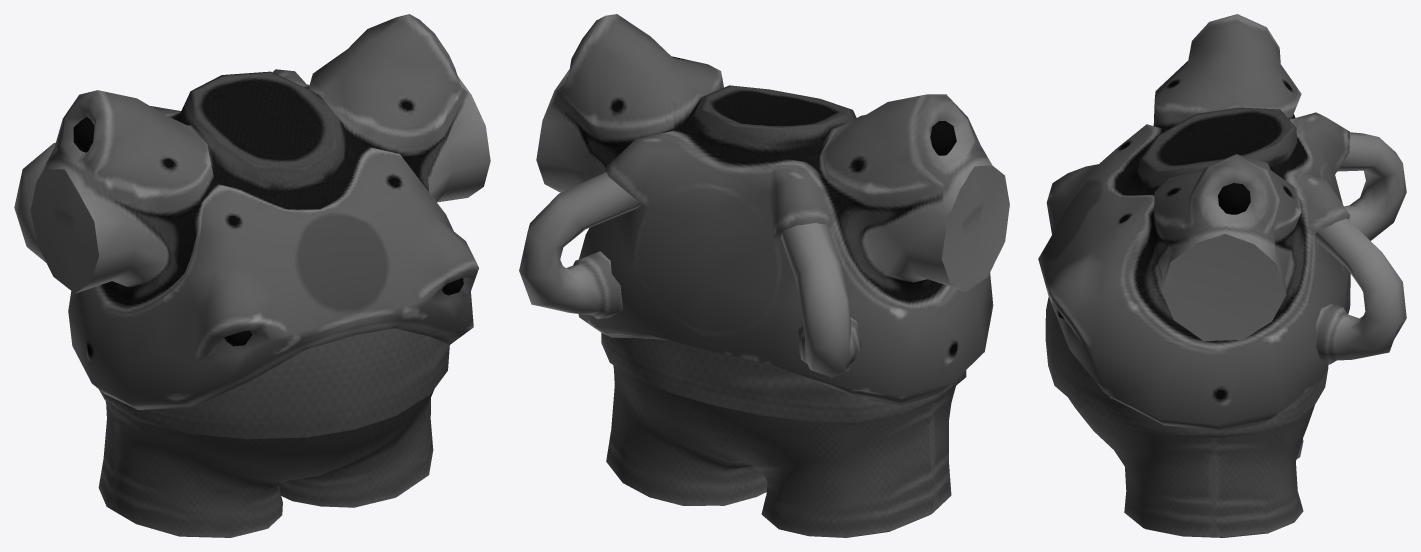
3 renders of one model, left to right at view 1: azimuth 30°, elevation 25°; view 2: azimuth 150°, elevation 25°; view 3: azimuth 270°, elevation 25°, orthographic. The views are drawn at different scales.
Parts seen in each view (by area): view 1: model_0_submesh_0, model_0_submesh_1; view 2: model_0_submesh_0, model_0_submesh_1; view 3: model_0_submesh_0, model_0_submesh_1.
Part boxes in pixels (x1=…): model_0_submesh_0: x1=14, y1=14, x2=490, y2=409; model_0_submesh_1: x1=98, y1=328, x2=449, y2=537; model_0_submesh_0: x1=519, y1=14, x2=1009, y2=405; model_0_submesh_1: x1=601, y1=333, x2=966, y2=537; model_0_submesh_0: x1=1038, y1=14, x2=1406, y2=431; model_0_submesh_1: x1=1045, y1=297, x2=1328, y2=537.
Bounding box in the file's own units: 0.4701 × 0.4872 × 0.4101.
